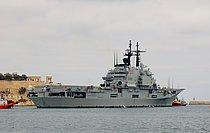MIL_Ship: (29, 40, 186, 108)
